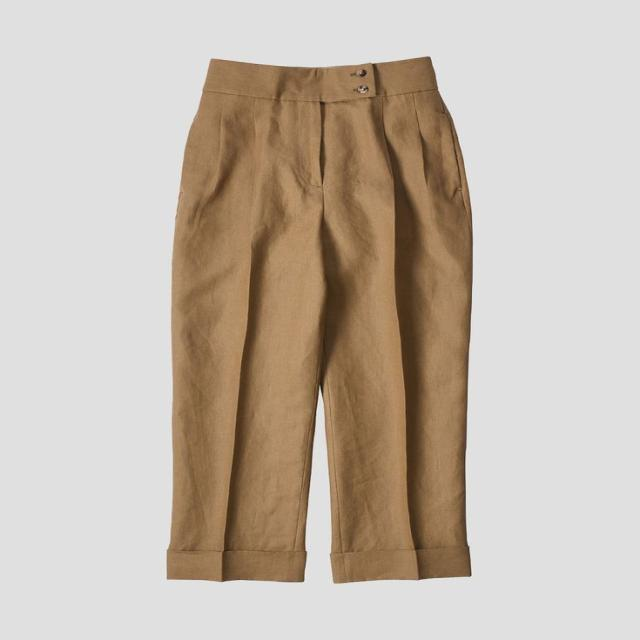long-pants: (161, 59, 477, 586)
